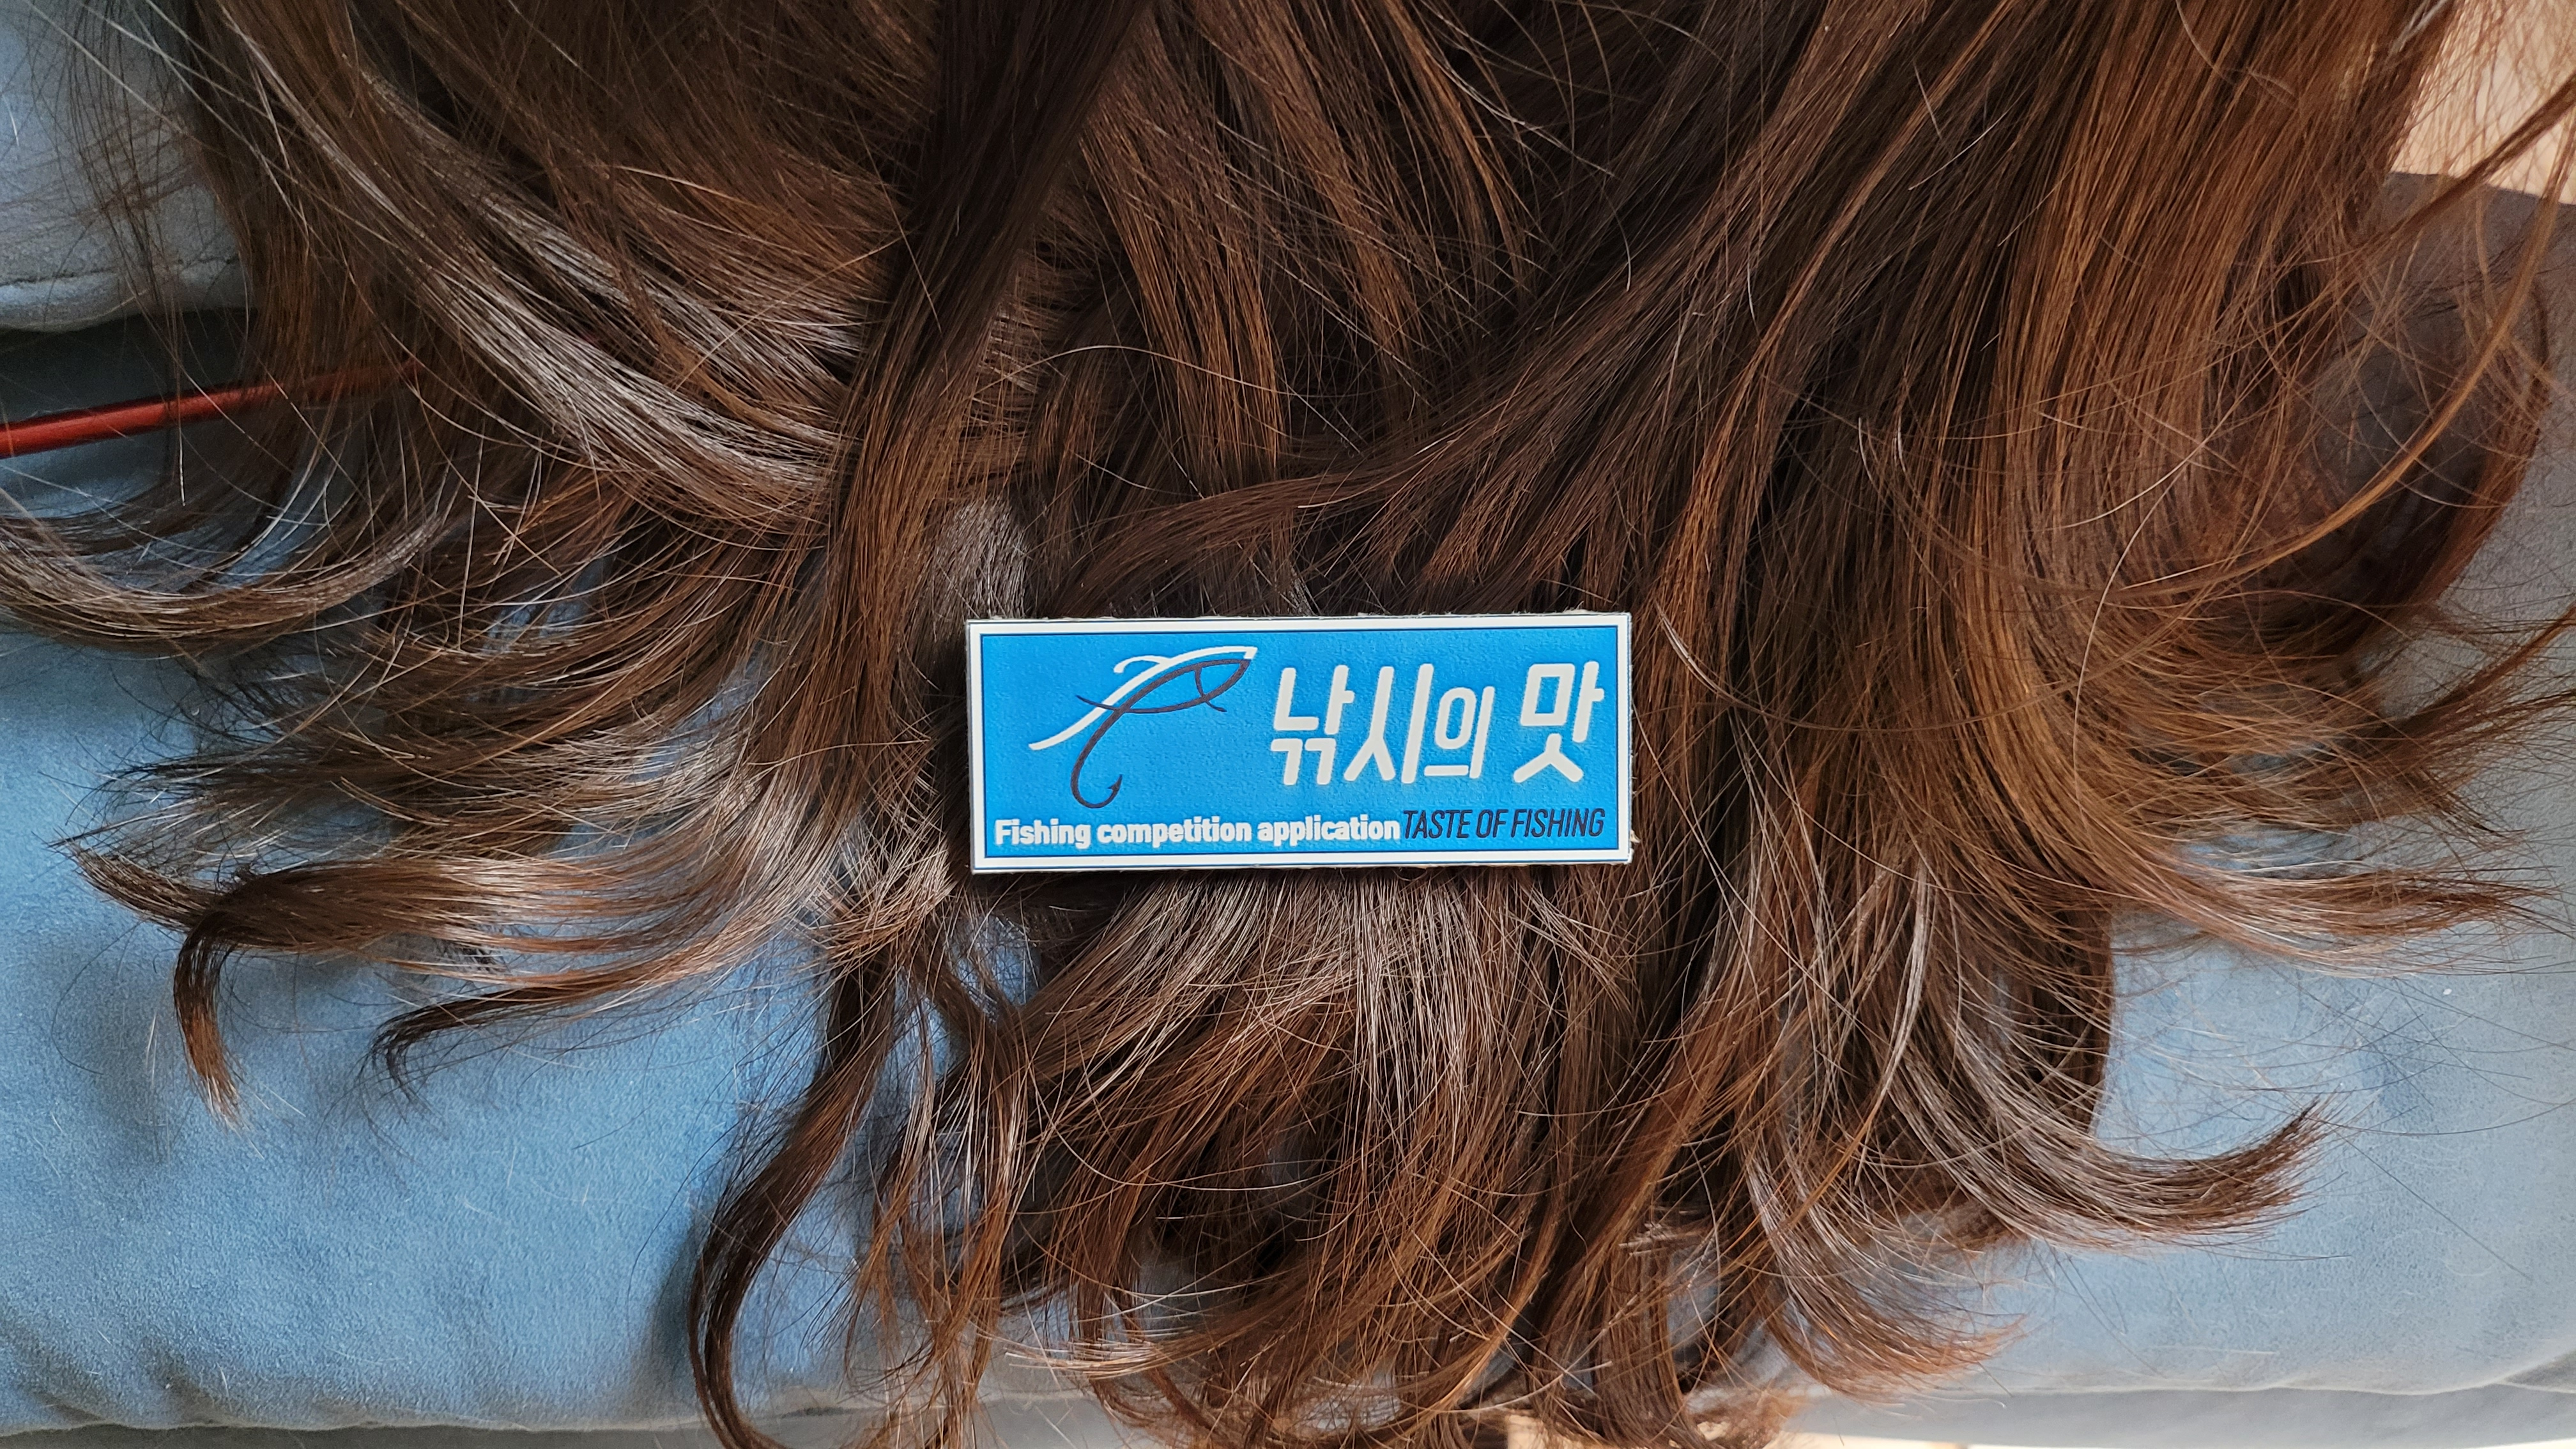tag: (968, 621, 1638, 870)
